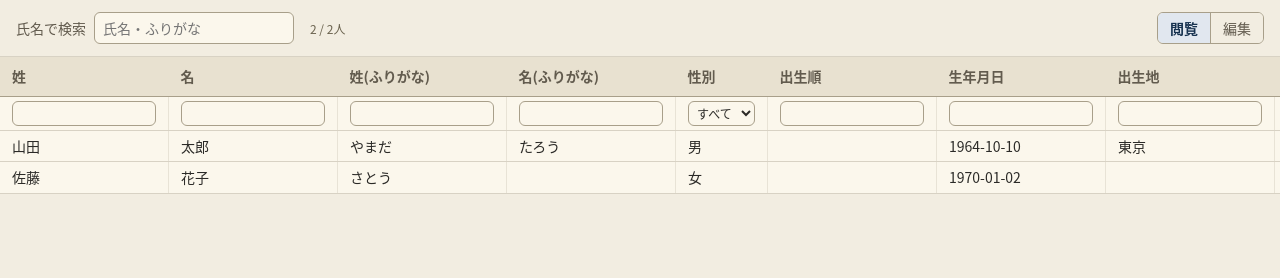
it: PersonTableView: 閲覧モードでは編集できない(spec「閲覧モードと編集モードの切り替え」) › 編集モードへ切り替えるとゴースト行が現れる
Click the button "編集": (1236,28) [1210,13,1263,43]
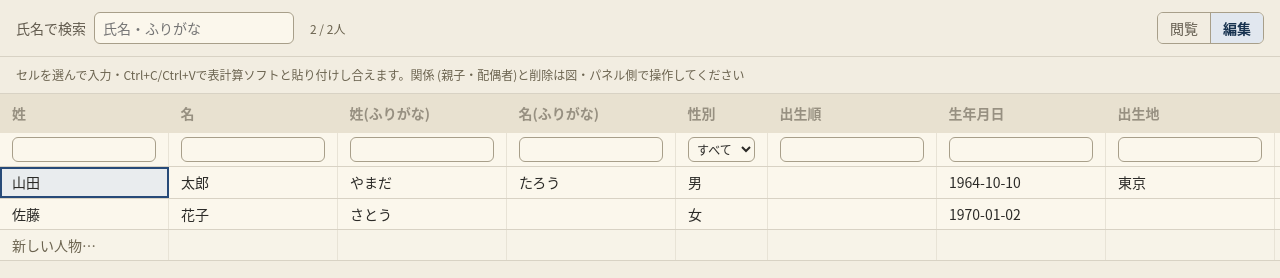
Now the text "新しい人物…" is shown, box [12,235,96,255]
